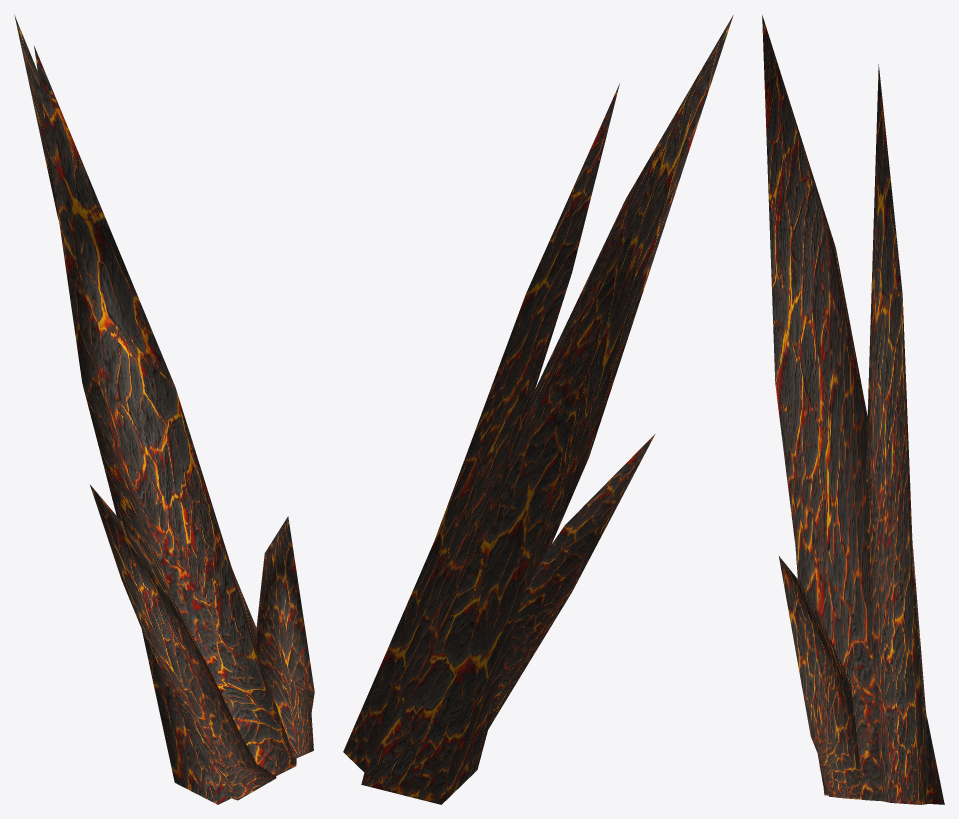
The model's file is jiaoci.fbx.
3 views of the same model, side by side, from view 1: azimuth 30°, elevation 25°; view 2: azimuth 150°, elevation 25°; view 3: azimuth 270°, elevation 25° (orthographic). The views are drawn at different scales.
Visible parts, largest first — view 1: jiaoci; view 2: jiaoci; view 3: jiaoci.
Boxes of the visible parts, x1,y1,x2,y2 form: jiaoci: (14, 15, 314, 804); jiaoci: (343, 15, 733, 804); jiaoci: (762, 15, 944, 804).
Size of the model in its own units: 2.01 by 4.87 by 1.16.
1 material, 1 textured.
